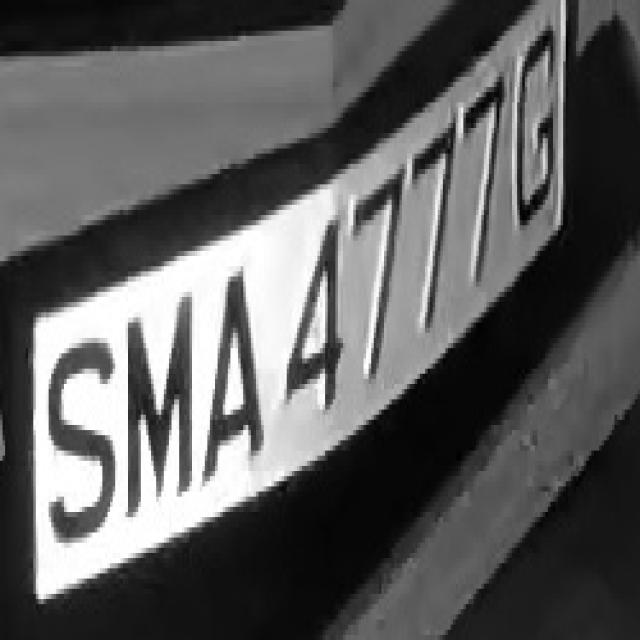4: (279, 200, 353, 425)
7: (343, 164, 415, 394), (402, 113, 471, 353), (456, 67, 507, 307)
A: (202, 256, 274, 486)
G: (507, 11, 561, 226)
M: (123, 297, 202, 517)
S: (43, 302, 123, 553)
